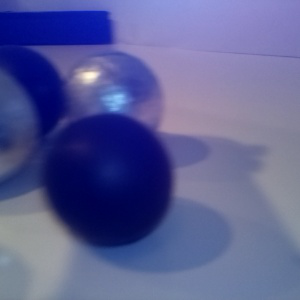alive_ball: (66, 50, 165, 134), (1, 68, 39, 183)
dead_ball: (41, 114, 173, 248), (1, 45, 66, 137)
